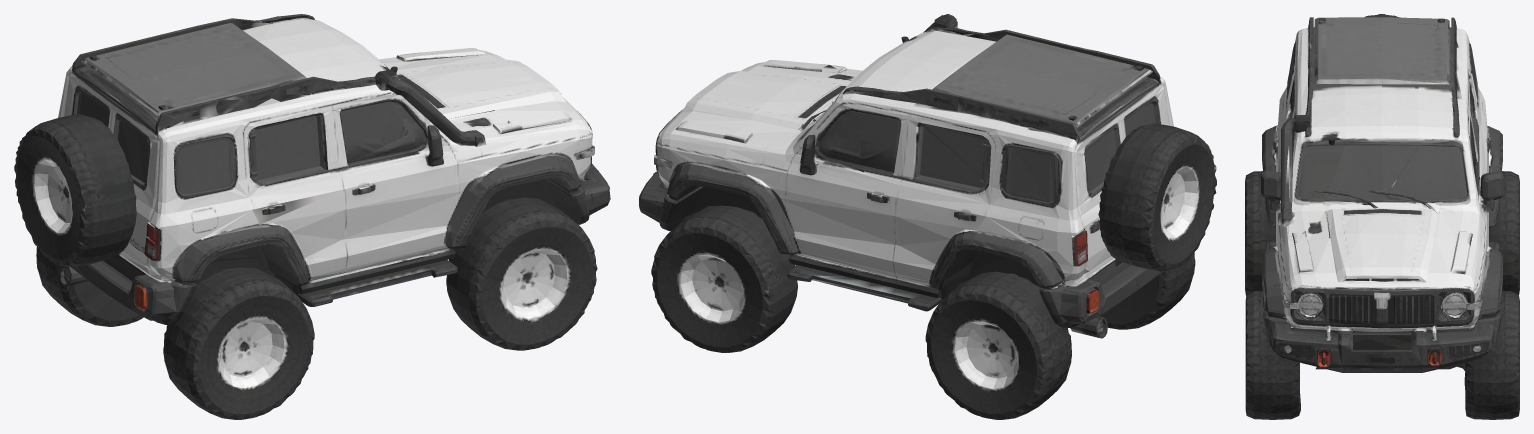
File: ride02new.glb
3 views of the same model, side by side, from view 1: azimuth 30°, elevation 25°; view 2: azimuth 150°, elevation 25°; view 3: azimuth 270°, elevation 25° (orthographic). The views are drawn at different scales.
Parts seen in each view (by area): view 1: tripo_part_16, WTmesh_BR, WTmesh_FR, tripo_part_33.001, tripo_part_22, tripo_part_8, WTmesh_BL, tripo_part_3, tripo_part_9, tripo_part_5, tripo_part_25, tripo_part_2; view 2: tripo_part_16, WTmesh_BL, WTmesh_FL, tripo_part_22, tripo_part_33.001, tripo_part_25, WTmesh_BR, tripo_part_31, tripo_part_8, tripo_part_29, tripo_part_32, tripo_part_21; view 3: tripo_part_16, tripo_part_22, WTmesh_FR, WTmesh_FL, WTmesh_BR, WTmesh_BL, tripo_part_9, tripo_part_8, tripo_part_17, tripo_part_25, tripo_part_32, tripo_part_2.
Boxes of the visible parts, box(x1,y1,x2,y2) form: tripo_part_16: box(58, 19, 610, 324); WTmesh_BR: box(163, 267, 314, 419); WTmesh_FR: box(446, 197, 597, 350); tripo_part_33.001: box(14, 114, 136, 267); tripo_part_22: box(72, 14, 378, 119); tripo_part_8: box(155, 62, 385, 133); WTmesh_BL: box(36, 246, 143, 326); tripo_part_3: box(298, 251, 457, 306); tripo_part_9: box(386, 76, 486, 146); tripo_part_5: box(252, 189, 342, 224); tripo_part_25: box(194, 257, 272, 283); tripo_part_2: box(425, 125, 443, 166); tripo_part_16: box(639, 31, 1173, 327); WTmesh_BL: box(925, 271, 1071, 419); WTmesh_FL: box(651, 205, 797, 352); tripo_part_22: box(843, 30, 1147, 142); tripo_part_33.001: box(1098, 123, 1216, 271); tripo_part_25: box(931, 229, 1064, 297); WTmesh_BR: box(1100, 252, 1195, 329); tripo_part_31: box(787, 259, 942, 311); tripo_part_8: box(909, 27, 1160, 82); tripo_part_29: box(899, 198, 985, 230); tripo_part_32: box(799, 135, 818, 175); tripo_part_21: box(1070, 316, 1107, 338); tripo_part_16: box(1262, 17, 1502, 372); tripo_part_22: box(1311, 17, 1462, 137); WTmesh_FR: box(1245, 290, 1300, 419); WTmesh_FL: box(1464, 290, 1519, 419); WTmesh_BR: box(1245, 171, 1275, 296); WTmesh_BL: box(1489, 171, 1519, 294); tripo_part_9: box(1278, 118, 1294, 226); tripo_part_8: box(1305, 17, 1344, 136); tripo_part_17: box(1383, 146, 1440, 213); tripo_part_25: box(1327, 125, 1502, 238); tripo_part_32: box(1480, 171, 1503, 214); tripo_part_2: box(1261, 170, 1280, 212).
Bounding box in the file's own units: 1.08 × 0.5879 × 0.5723.
2 materials, 2 textured.
